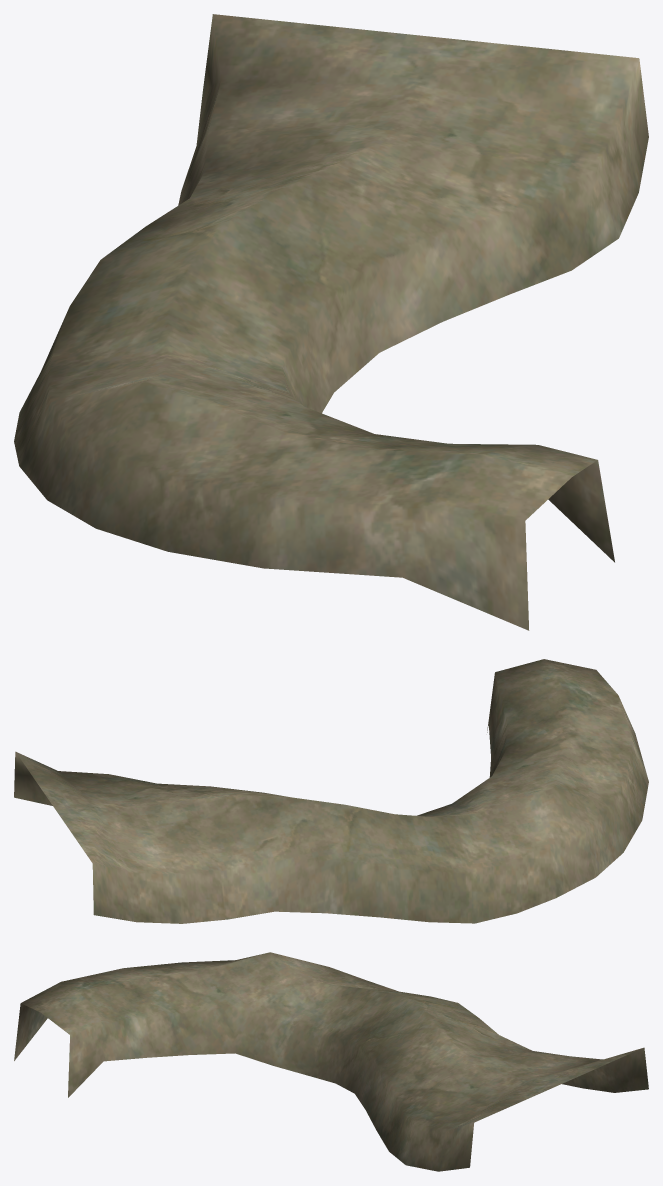
Rendered from EKH_BARRELROOM_PS_JA1_RIVERROOF_747356.fbx.
The picture shows the model from 3 angles, top to bottom: view 1: azimuth 30°, elevation 25°; view 2: azimuth 150°, elevation 25°; view 3: azimuth 270°, elevation 25°; orthographic projection. The views are drawn at different scales.
Parts seen in each view (by area): view 1: EKH_BARRELROOM_PS_JA1_RIVERROOF_747356; view 2: EKH_BARRELROOM_PS_JA1_RIVERROOF_747356; view 3: EKH_BARRELROOM_PS_JA1_RIVERROOF_747356.
Part boxes in pixels (x1,y1,x2,y2): EKH_BARRELROOM_PS_JA1_RIVERROOF_747356: (14,14,648,630); EKH_BARRELROOM_PS_JA1_RIVERROOF_747356: (14,659,648,923); EKH_BARRELROOM_PS_JA1_RIVERROOF_747356: (14,952,648,1171).
Size of the model in its own units: 116899 by 21840 by 150238.
1 material, 1 textured.
